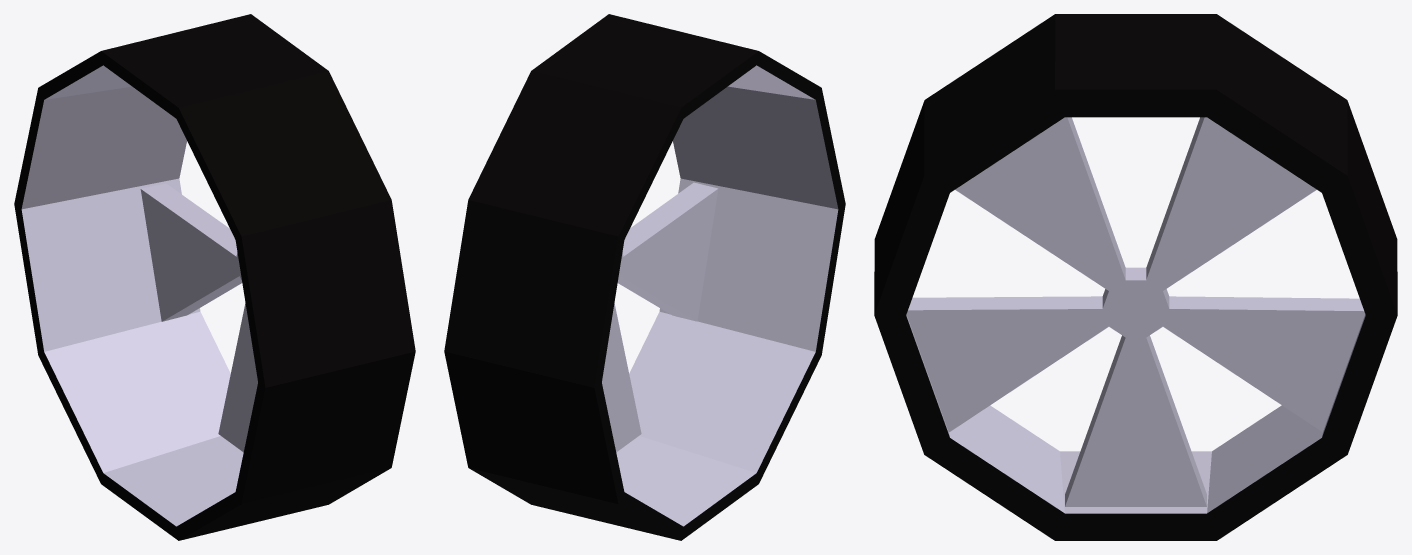
The model's file is wheel_sports.glb.
The picture shows the model from 3 angles, left to right: view 1: azimuth 30°, elevation 25°; view 2: azimuth 150°, elevation 25°; view 3: azimuth 270°, elevation 25°; orthographic projection. The views are drawn at different scales.
Visible parts, largest first — view 1: Sports wheel rear left_tires_0; view 2: Sports wheel rear left_tires_0; view 3: Sports wheel rear left_tires_0.
Boxes of the visible parts, x1,y1,x2,y2 form: Sports wheel rear left_tires_0: (14, 14, 415, 540); Sports wheel rear left_tires_0: (444, 14, 845, 540); Sports wheel rear left_tires_0: (874, 14, 1397, 540).
Bounding box in the file's own units: 0.3044 × 0.8412 × 0.8844.
